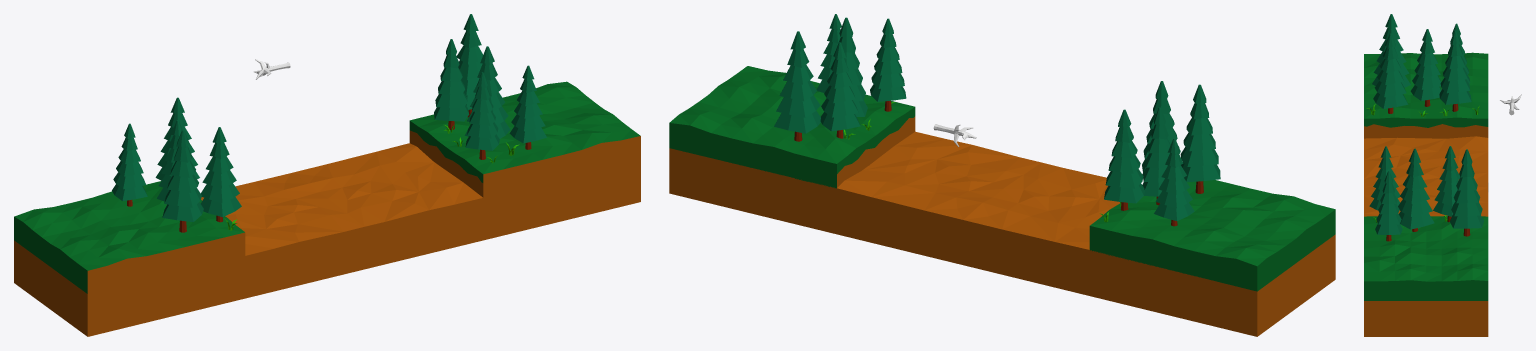
The model's file is Ground_1_Forest_3.fbx.
3 renders of one model, left to right at view 1: azimuth 30°, elevation 25°; view 2: azimuth 150°, elevation 25°; view 3: azimuth 270°, elevation 25°, orthographic. The views are drawn at different scales.
Parts seen in each view (by area): view 1: Icosphere.004; view 2: Icosphere.004; view 3: Icosphere.004, Snow Long Snow Tree.002.
Boxes of the visible parts, x1=… form: Icosphere.004: x1=14, y1=14, x2=640, y2=336; Icosphere.004: x1=669, y1=14, x2=1335, y2=336; Icosphere.004: x1=1364, y1=14, x2=1488, y2=336; Snow Long Snow Tree.002: x1=1500, y1=94, x2=1521, y2=115.
Size of the model in its own units: 11593 by 3392 by 3401.
